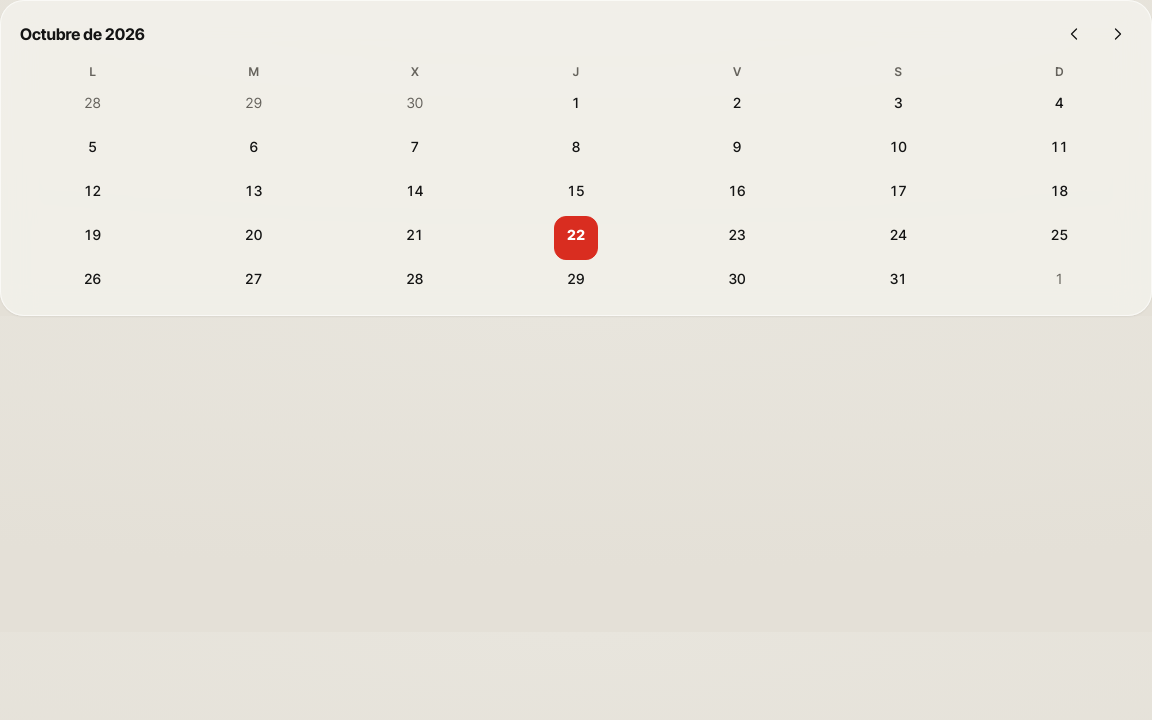
Test: MiniMonth months (RF-26) › stays on the month it was showing if the marks cannot be loaded
Click the 1st button named "Mostrar mes anterior".
click(1074, 34)  # box left=1052, top=12, right=1096, bottom=56
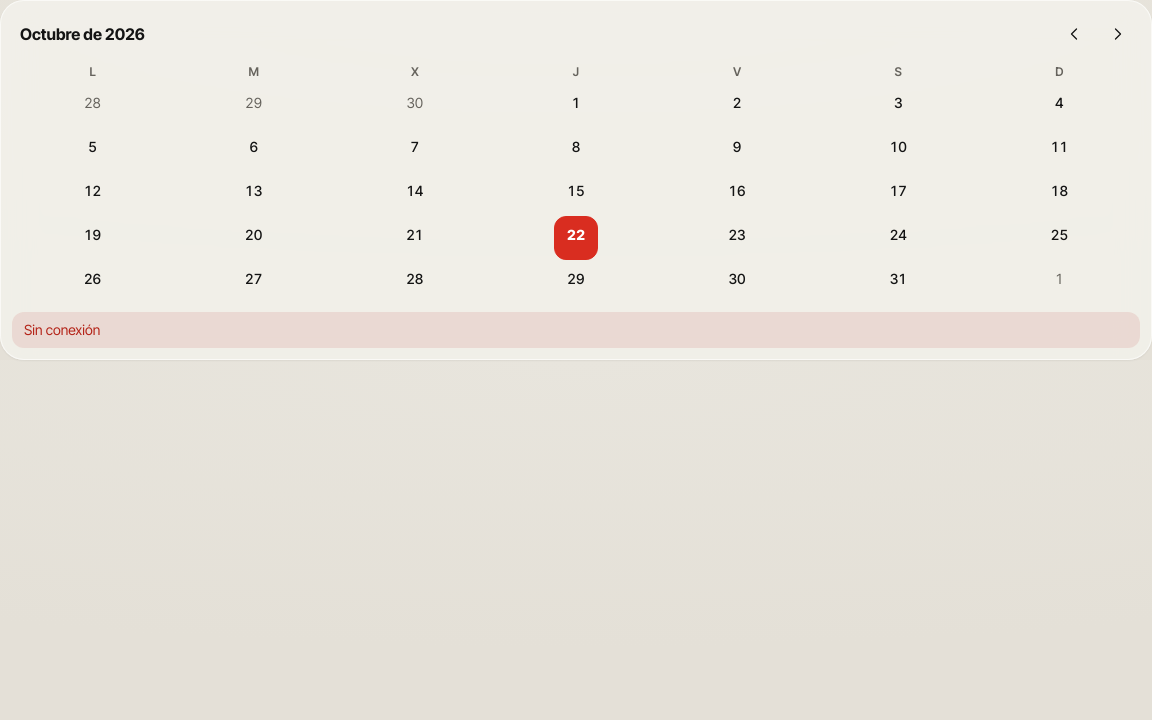
Expected: the heading "octubre de 2026" is shown, left=12, top=22, right=145, bottom=46
Result: the message reads "Sin conexión" at left=24, top=321, right=100, bottom=338
